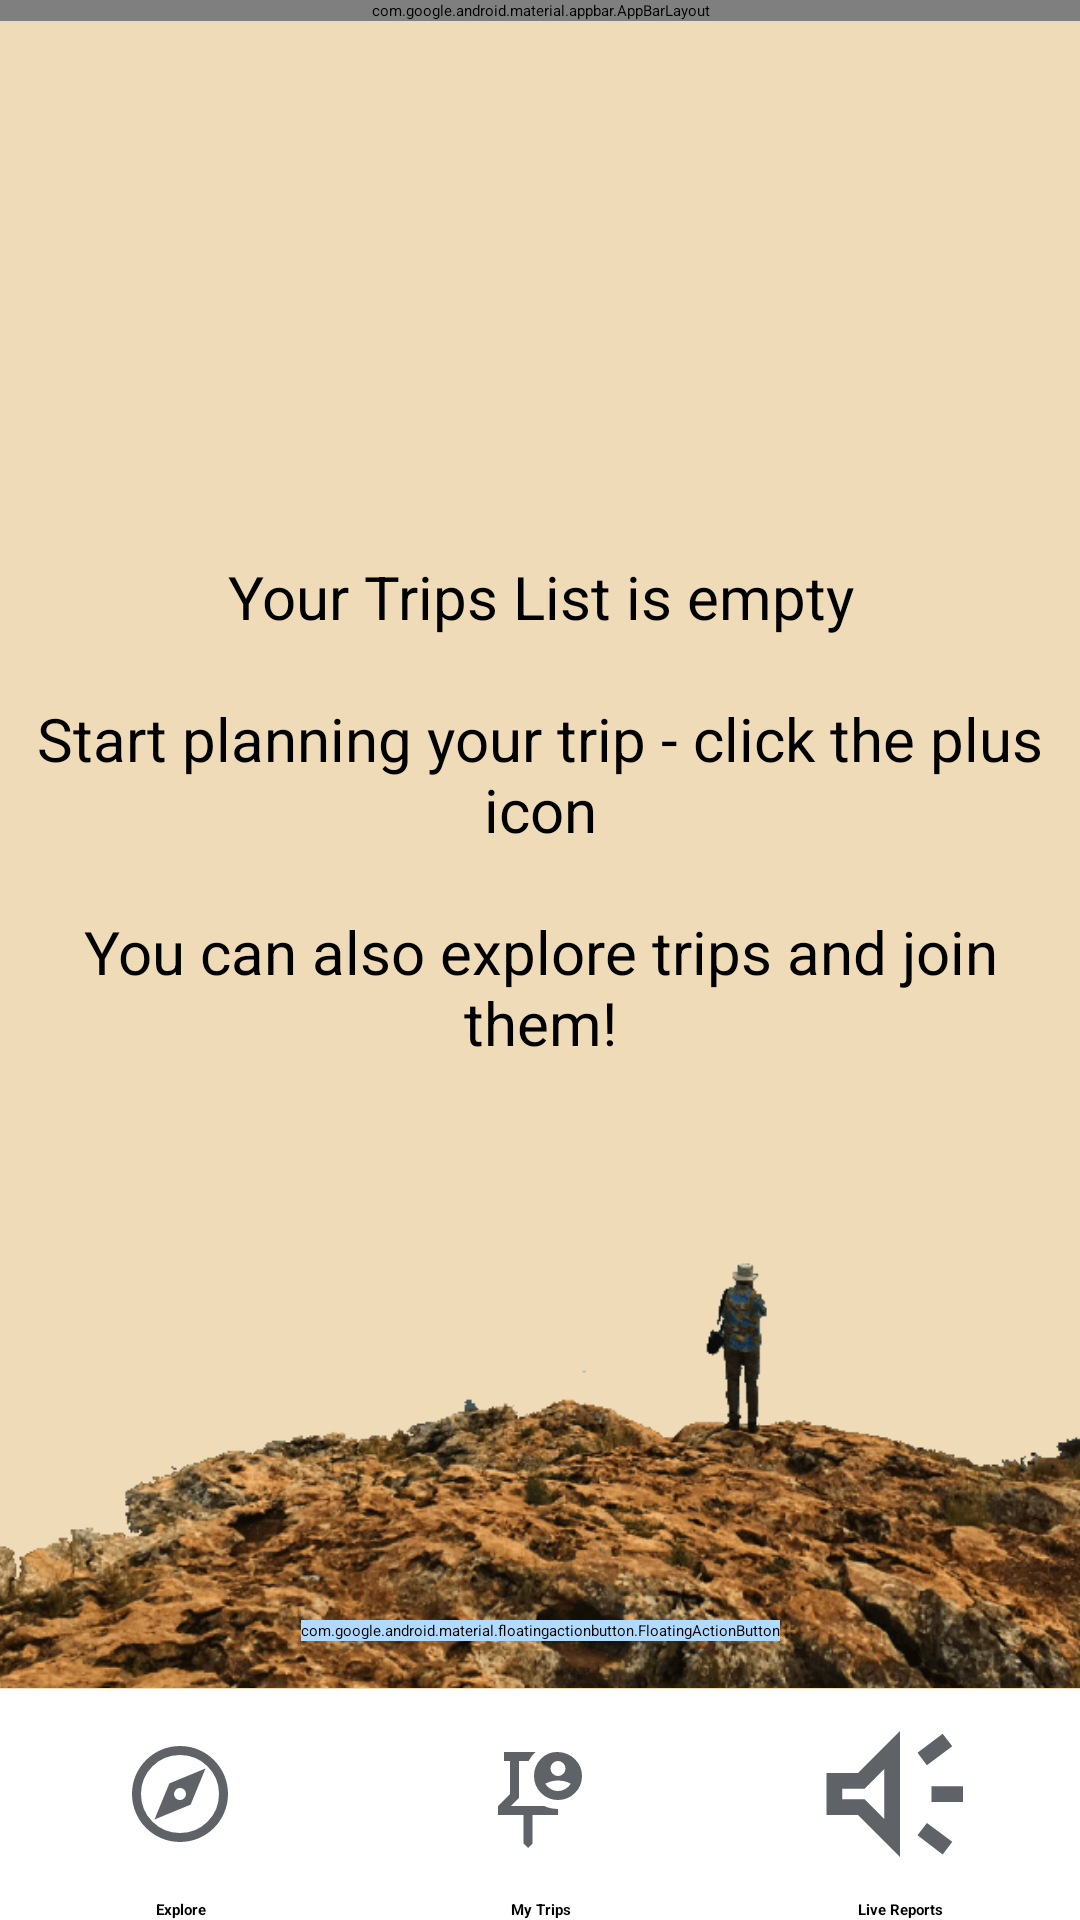

Icons on this 1080 × 1920 Android screen, each with its box as [x1,y1,x2,y2]:
search trips: [132,1746,228,1842]
